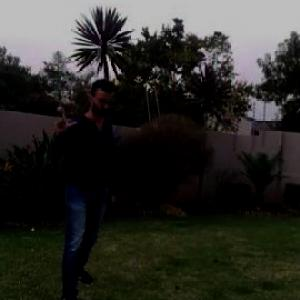land_hand: (51, 100, 87, 136)
